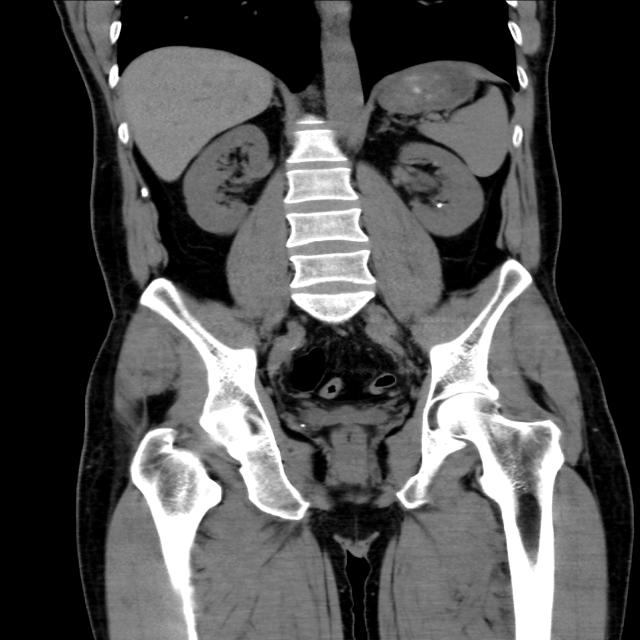kidneystone: (436, 202, 444, 208)
